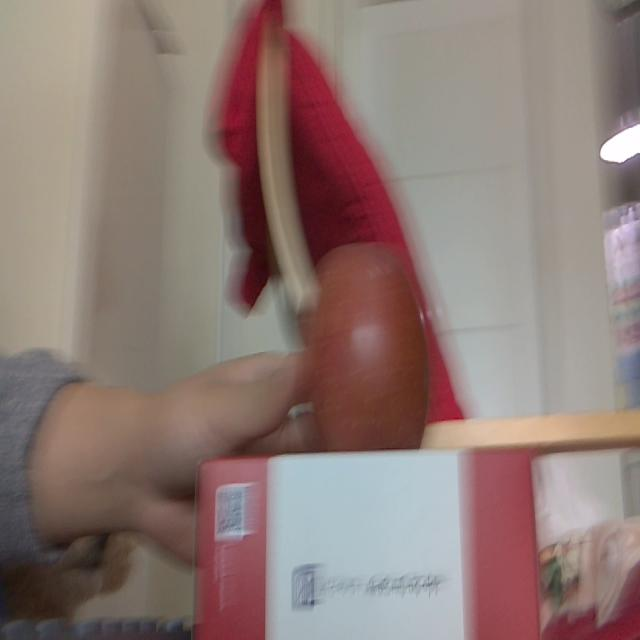apple: (297, 242, 435, 452)
